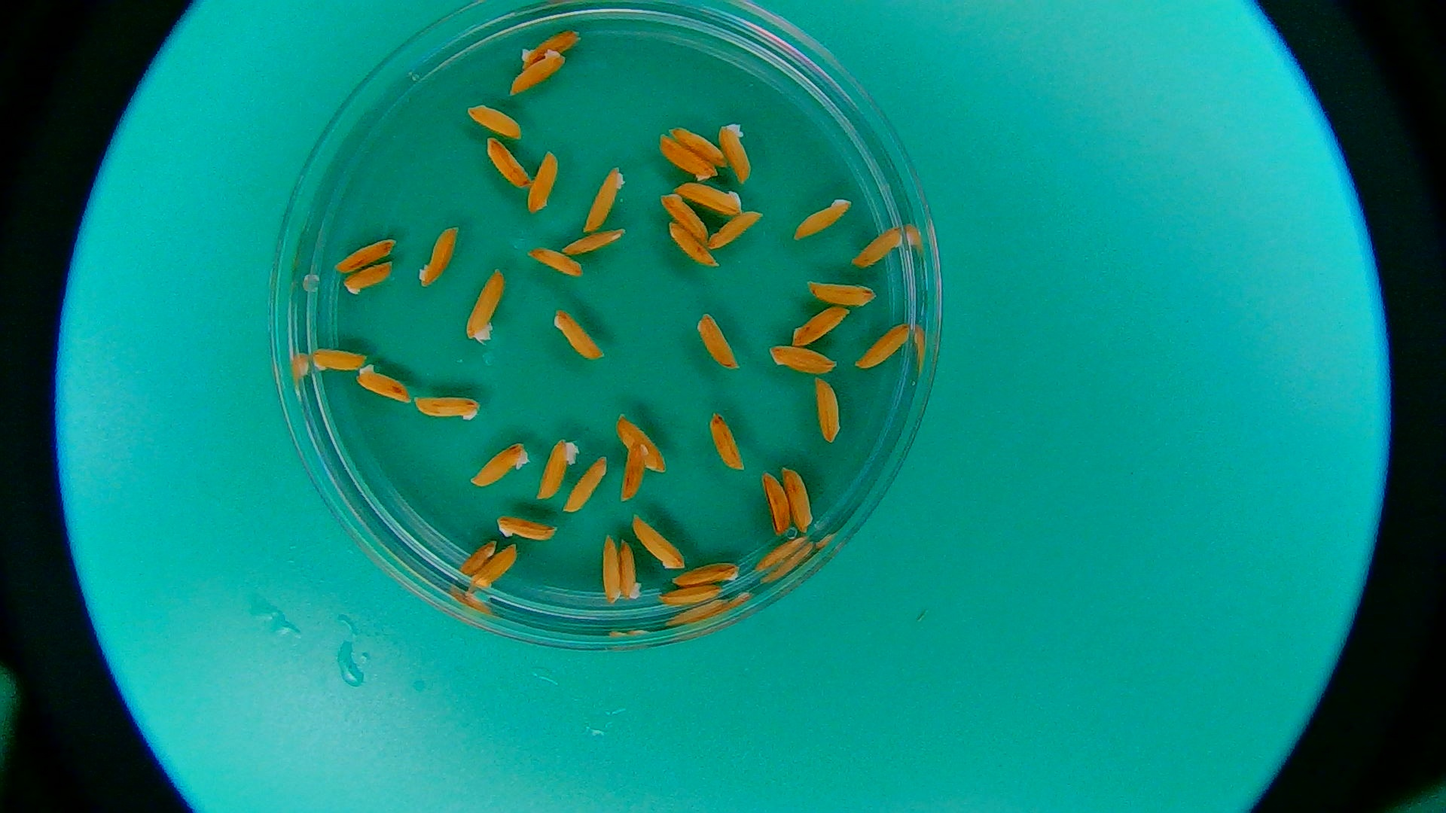no: (416, 224, 459, 295), (507, 48, 569, 96), (520, 29, 589, 72), (471, 443, 531, 492), (618, 413, 667, 473), (630, 514, 684, 568), (465, 269, 504, 343), (535, 435, 578, 500), (581, 164, 625, 227), (657, 136, 717, 179), (853, 322, 909, 368), (789, 306, 853, 346), (694, 312, 738, 370), (551, 311, 603, 360), (669, 123, 728, 165), (782, 466, 816, 538), (482, 136, 529, 188), (795, 198, 853, 240), (569, 457, 610, 516), (661, 193, 709, 241), (712, 209, 767, 249), (676, 181, 741, 214), (471, 544, 519, 588), (718, 121, 752, 183), (356, 364, 410, 403), (767, 346, 837, 376), (708, 411, 744, 469), (465, 104, 525, 138), (343, 260, 395, 298), (854, 227, 902, 268), (529, 150, 560, 213), (667, 225, 711, 268), (759, 469, 786, 537), (621, 439, 650, 501), (334, 239, 400, 266), (807, 280, 877, 305), (814, 379, 841, 443), (496, 514, 560, 540), (414, 396, 479, 421), (673, 563, 740, 585), (310, 346, 364, 373), (528, 249, 581, 276), (561, 230, 625, 252), (459, 538, 496, 576), (601, 534, 621, 604), (621, 540, 642, 603), (657, 585, 725, 604)
